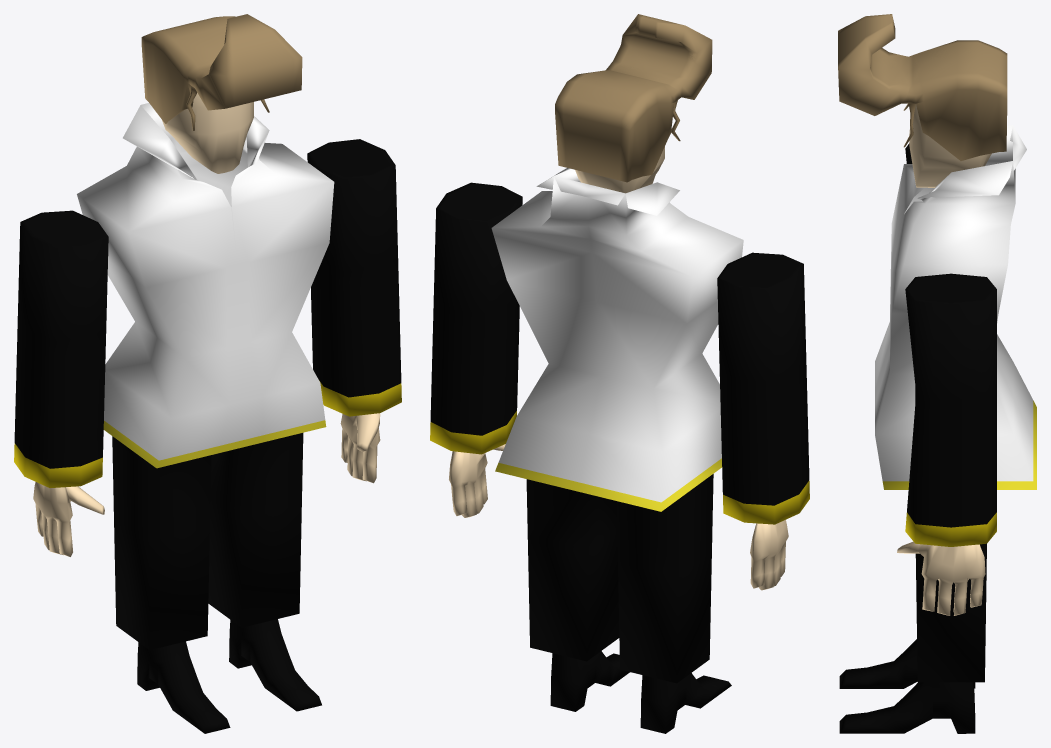
File: LORD HENRY.glb
The picture shows the model from 3 angles, left to right: view 1: azimuth 30°, elevation 25°; view 2: azimuth 150°, elevation 25°; view 3: azimuth 270°, elevation 25°; orthographic projection. The views are drawn at different scales.
Visible parts, largest first — view 1: Head.007; view 2: Head.007; view 3: Head.007.
Boxes of the visible parts, x1,y1,x2,y2 form: Head.007: [14, 14, 401, 733]; Head.007: [430, 14, 809, 733]; Head.007: [838, 14, 1036, 733].
Bounding box in the file's own units: 1.71 × 3.04 × 0.7979.
1 material, 1 textured.
